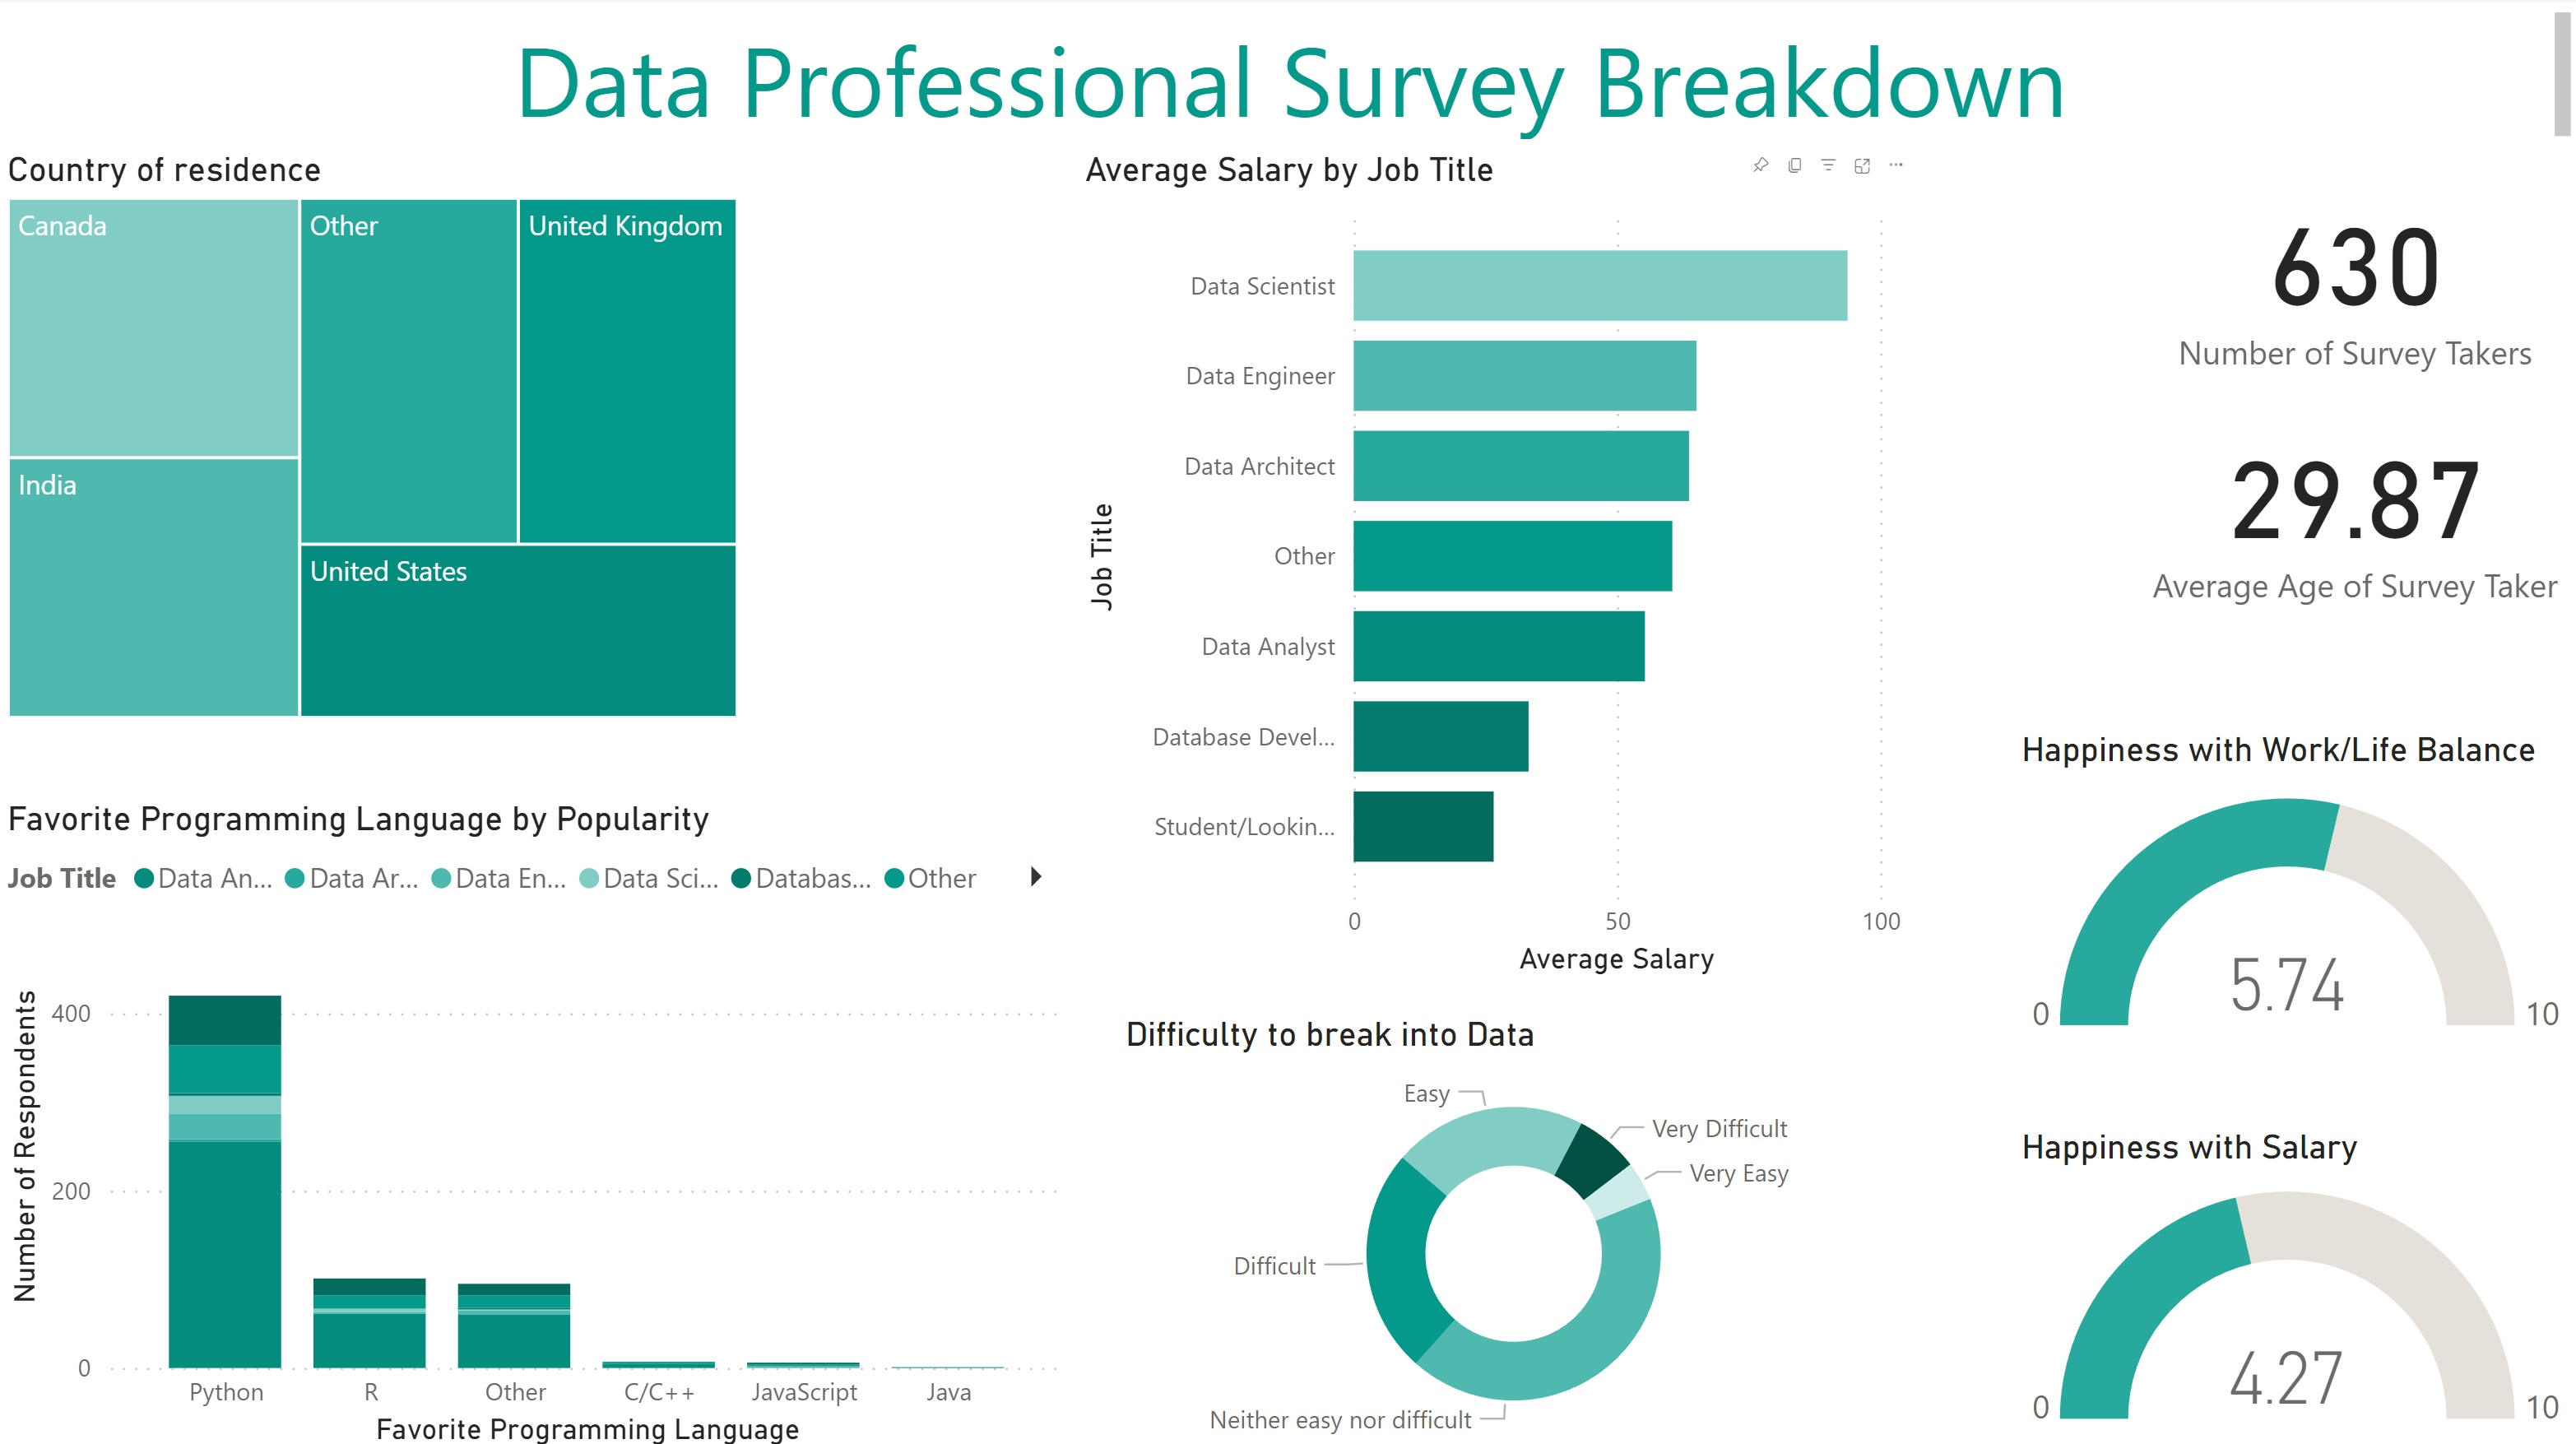

The dashboard page shown, as its layout file describes it:
{"tool":"powerbi","page":{"name":"Page 1","canvas":[1280,720],"ordinal":0},"visuals":[{"type":"textbox","box":[9.6,0,1270.7,72.7],"z":0},{"type":"card","fields":{"Values":["CountNonNull(Data Professional Survey.Unique ID)"]},"box":[1060.2,72.9,217.2,124.3],"z":1},{"type":"card","fields":{"Values":["Avg(Data Professional Survey.Q10 - Current Age)"]},"box":[1057.4,197.2,222.9,107.2],"z":2},{"type":"barChart","title":"Average Salary by Job Title","fields":{"Category":["Data Professional Survey.Q1 - Which Title Best Fits your Current Role?"],"Y":["Avg(Data Professional Survey.Average Salary)"],"Series":["Data Professional Survey.Q1 - Which Title Best Fits your Current Role?"]},"box":[534.4,72.9,414.4,414.4],"z":3},{"type":"columnChart","title":"Favorite Programming Language by Popularity","fields":{"Category":["Data Professional Survey.Q5 - Favorite Programming Language"],"Y":["CountNonNull(Data Professional Survey.Unique ID)"],"Series":["Data Professional Survey.Q1 - Which Title Best Fits your Current Role?"]},"box":[0,394.4,534.4,325.8],"z":4},{"type":"treemap","title":"Country of residence","fields":{"Group":["Data Professional Survey.Q11 - Which Country do you live in?.1"],"Values":["Count(Data Professional Survey.Q11 - Which Country do you live in?.1)"]},"box":[0,72.9,371.5,287.2],"z":5},{"type":"gauge","title":"Happiness with Work/Life Balance","fields":{"Y":["Avg(Data Professional Survey.Q6 - How Happy are you in your Current Position with the following? (Work/Life Balance))"],"MinValue":["Min(Data Professional Survey.Q6 - How Happy are you in your Current Position with the following? (Work/Life Balance))"],"MaxValue":["Max(Data Professional Survey.Q6 - How Happy are you in your Current Position with the following? (Work/Life Balance))1"]},"box":[998.8,360.1,281.5,167.2],"z":6},{"type":"gauge","title":"Happiness with Salary","fields":{"Y":["Avg(Data Professional Survey.Q6 - How Happy are you in your Current Position with the following? (Salary))"],"MinValue":["Min(Data Professional Survey.Q6 - How Happy are you in your Current Position with the following? (Salary))"],"MaxValue":["Max(Data Professional Survey.Q6 - How Happy are you in your Current Position with the following? (Salary))"]},"box":[998.8,557.3,281.5,162.9],"z":7},{"type":"donutChart","title":"Difficulty to break into Data","fields":{"Y":["CountNonNull(Data Professional Survey.Q7 - How difficult was it for you to break into Data?)"],"Category":["Data Professional Survey.Q7 - How difficult was it for you to break into Data?"]},"box":[554.4,501.5,394.4,218.6],"z":8}]}

Visuals, with their boxes in screenshot pixels (x1, y1, x2, y2), scaled from the page's 1280x720 canvas onto the 2576x1444 screenshot:
textbox: 19:0:2575:146
card - CountNonNull(Data Professional Survey.Unique ID): 2133:146:2571:396
card - Avg(Data Professional Survey.Q10 - Current Age): 2128:396:2575:611
"Average Salary by Job Title" barChart: 1075:146:1910:977
"Favorite Programming Language by Popularity" columnChart: 0:791:1075:1443
"Country of residence" treemap: 0:146:748:722
"Happiness with Work/Life Balance" gauge: 2010:722:2575:1057
"Happiness with Salary" gauge: 2010:1117:2575:1443
"Difficulty to break into Data" donutChart: 1116:1005:1910:1443
